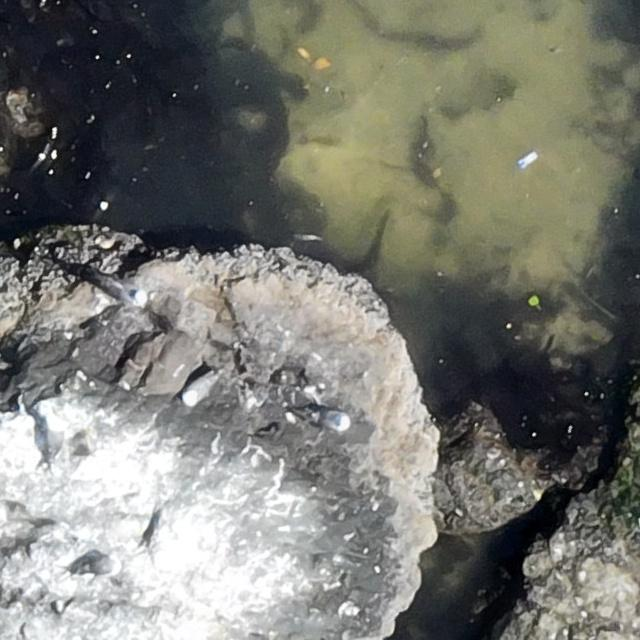umineko: (183, 374, 221, 406), (74, 558, 123, 581), (106, 279, 144, 304), (46, 419, 64, 469), (312, 409, 350, 428)
